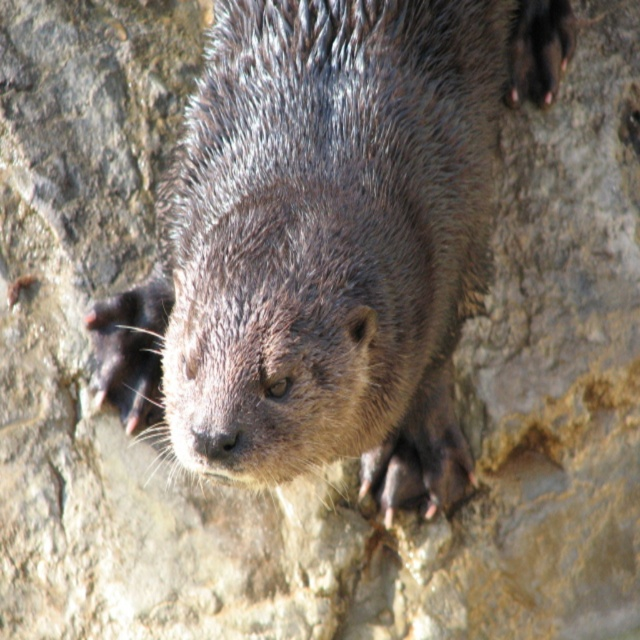Otter: (84, 0, 567, 524)
